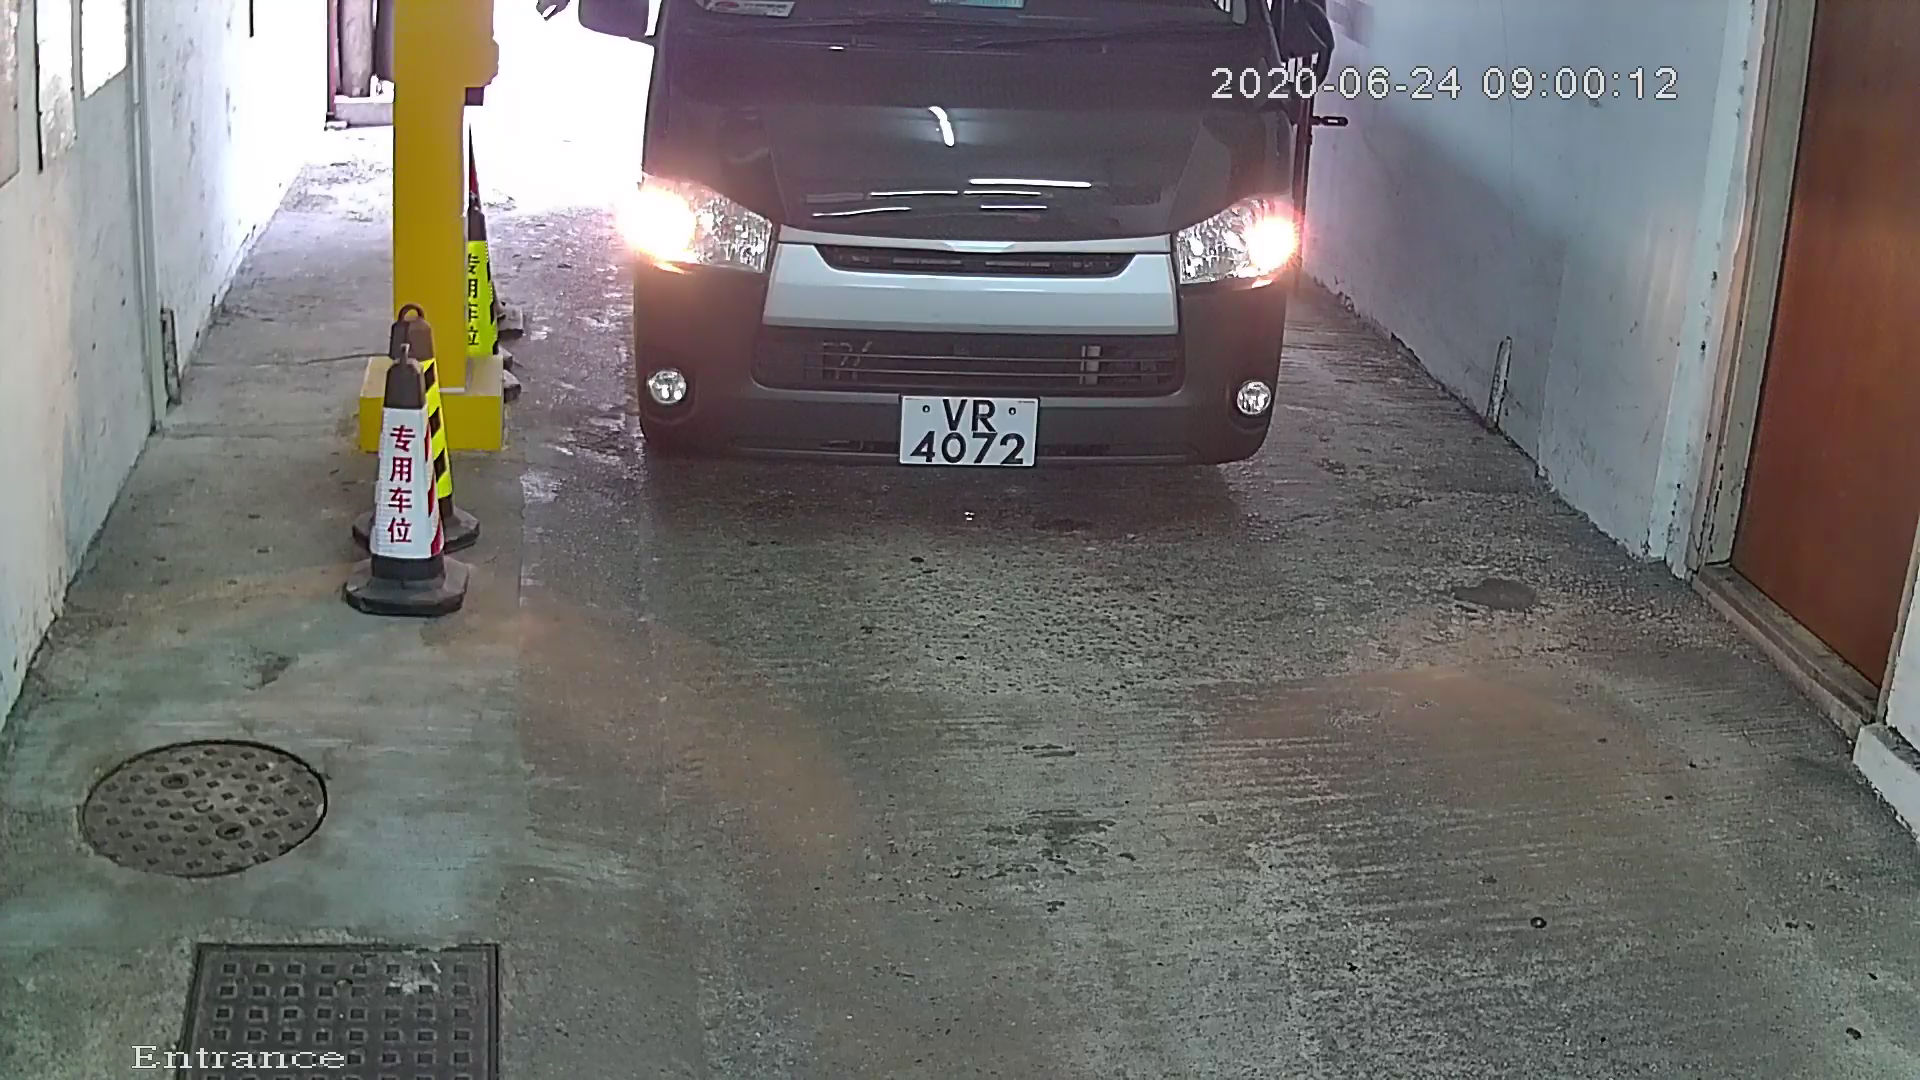privatecar: (604, 1, 1356, 521)
